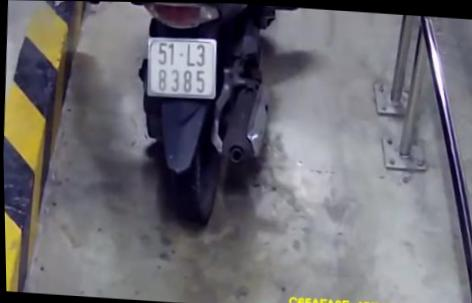LP: (143, 32, 220, 102)
